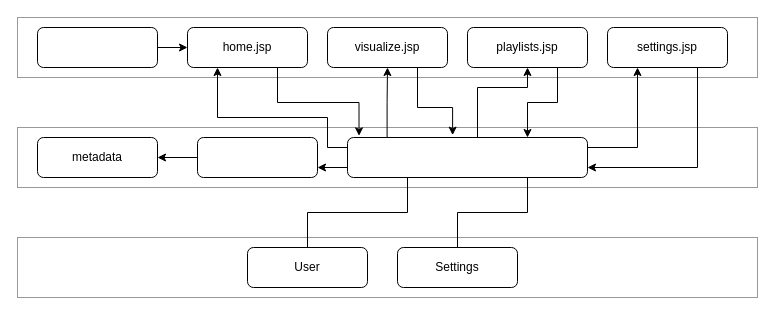
Image size: 775x315. Some labels were removed from this diagram. The shapes that lost their labels are listed below. From the top down, each one's centre as x and y in pixels, then its label:
the point at 97,47: index.html
the point at 257,157: UserSettings
the point at 467,157: settingsServlet
